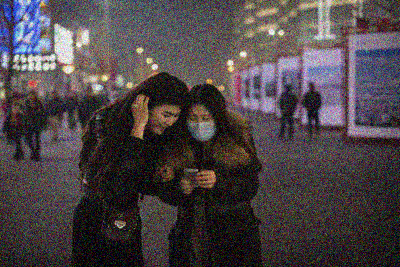with_mask: (186, 110, 218, 142)
without_mask: (148, 109, 182, 136)
